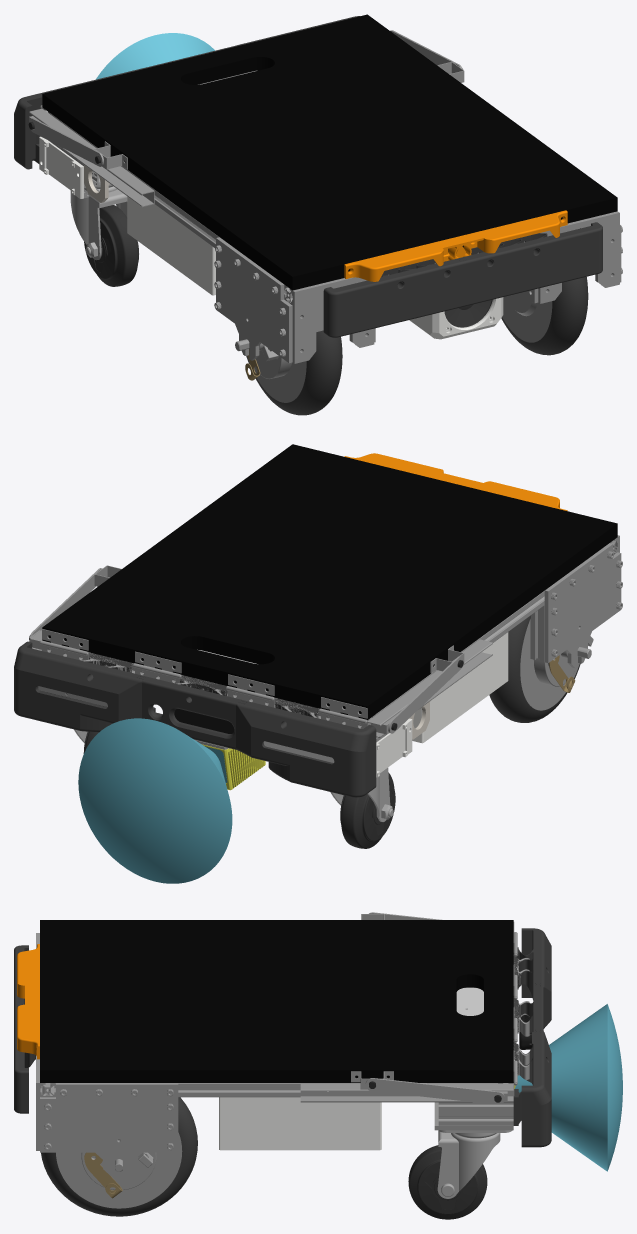
File: ugokuita-classic.fbx
The picture shows the model from 3 angles, top to bottom: view 1: azimuth 30°, elevation 25°; view 2: azimuth 150°, elevation 25°; view 3: azimuth 270°, elevation 25°; orthographic projection. The views are drawn at different scales.
Parts seen in each view (by area): view 1: Ita, Body1 (×6), Bumper_B2, Bumper_B1, Body3 (×2), Battery_Case_Right_12V7.2Ah (1) (1), Body9 (×2), Body24, Body34, MeshBody1 (1) (2) (1) (1), Body2 (×2), Bumper_F3 (+3 smaller); view 2: Ita, Body34, Body1 (×8), Bumper_F3, Bumper_F1, Bumper_F2, Battery_Case_Right_12V7.2Ah (1) (1), Body2 (×3), Body9, Body3, MeshBody1 (1) (2) (1) (1), LED_Driver_Base (+4 smaller); view 3: Ita, Body1 (×4), Body34, Battery_Case_Right_12V7.2Ah (1) (1) (1), Body9, Bumper_F1, Body3, Bumper_F3, Body10, Body2, Body25, MeshBody1 (1) (2) (1) (1) (+6 smaller).
Part boxes in pixels (x1=…): Ita: x1=42, y1=14, x2=617, y2=290; Body1 (×6): x1=29, y1=108, x2=619, y2=363; Bumper_B2: x1=323, y1=257, x2=468, y2=337; Bumper_B1: x1=458, y1=222, x2=602, y2=305; Body3 (×2): x1=246, y1=277, x2=588, y2=415; Battery_Case_Right_12V7.2Ah (1) (1): x1=127, y1=196, x2=215, y2=295; Body9 (×2): x1=235, y1=293, x2=552, y2=402; Body24: x1=292, y1=277, x2=374, y2=363; Body34: x1=96, y1=33, x2=214, y2=79; MeshBody1 (1) (2) (1) (1): x1=344, y1=232, x2=483, y2=281; Body2 (×2): x1=29, y1=114, x2=286, y2=294; Bumper_F3: x1=14, y1=68, x2=143, y2=169; Ita: x1=42, y1=444, x2=617, y2=719; Body34: x1=78, y1=718, x2=232, y2=883; Body1 (×8): x1=42, y1=543, x2=621, y2=848; Bumper_F3: x1=236, y1=698, x2=376, y2=797; Bumper_F1: x1=14, y1=641, x2=147, y2=732; Bumper_F2: x1=137, y1=675, x2=246, y2=749; Battery_Case_Right_12V7.2Ah (1) (1): x1=412, y1=632, x2=508, y2=743; Body2 (×3): x1=30, y1=568, x2=544, y2=733; Body9: x1=520, y1=619, x2=593, y2=710; Body3: x1=489, y1=616, x2=580, y2=722; MeshBody1 (1) (2) (1) (1): x1=435, y1=473, x2=567, y2=511; LED_Driver_Base: x1=376, y1=718, x2=412, y2=777; Ita: x1=40, y1=920, x2=513, y2=1082; Body1 (×4): x1=40, y1=1083, x2=513, y2=1219; Body34: x1=515, y1=1004, x2=622, y2=1171; Battery_Case_Right_12V7.2Ah (1) (1) (1): x1=219, y1=1097, x2=381, y2=1150; Body9: x1=56, y1=1132, x2=182, y2=1208; Bumper_F1: x1=513, y1=1029, x2=551, y2=1147; Body3: x1=41, y1=1097, x2=197, y2=1216; Bumper_F3: x1=513, y1=928, x2=551, y2=1028; Body10: x1=178, y1=1083, x2=497, y2=1097; Body2: x1=365, y1=1078, x2=504, y2=1104; Body25: x1=438, y1=1102, x2=513, y2=1125; MeshBody1 (1) (2) (1) (1): x1=17, y1=944, x2=39, y2=1004.
Bounding box in the file's own units: 505 × 236 × 771.
